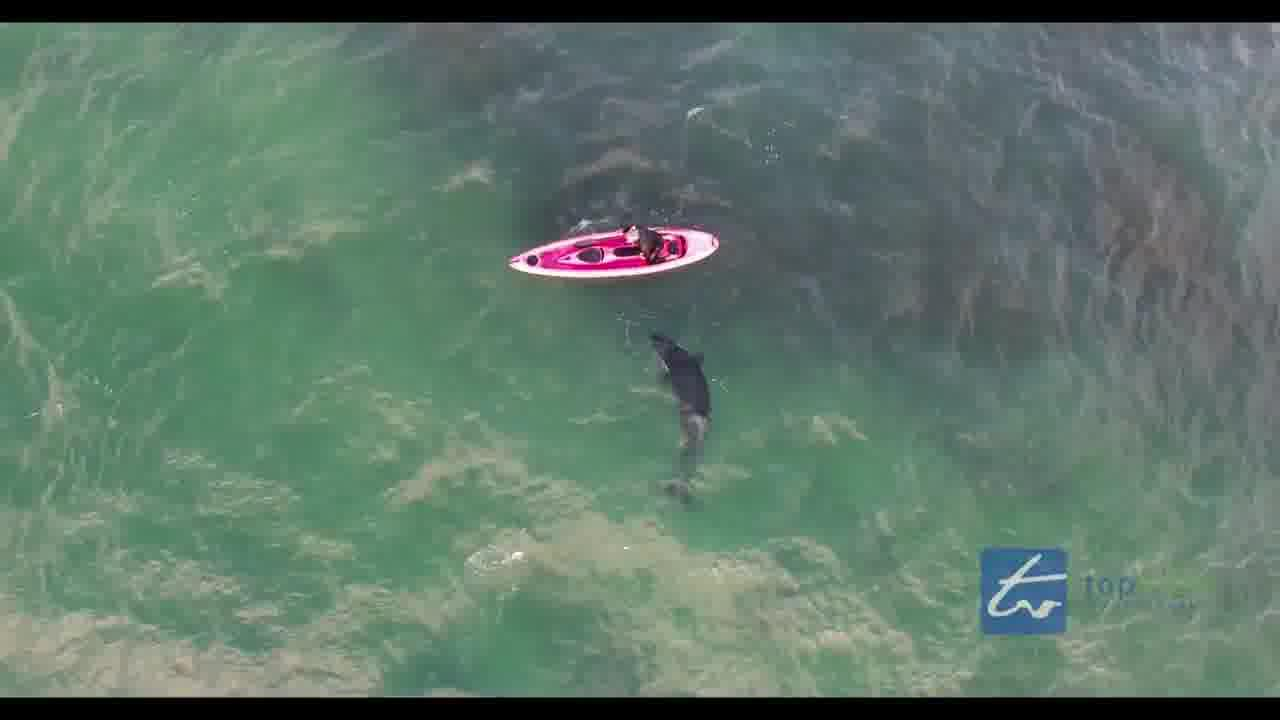swimmer: (615, 226, 661, 251)
